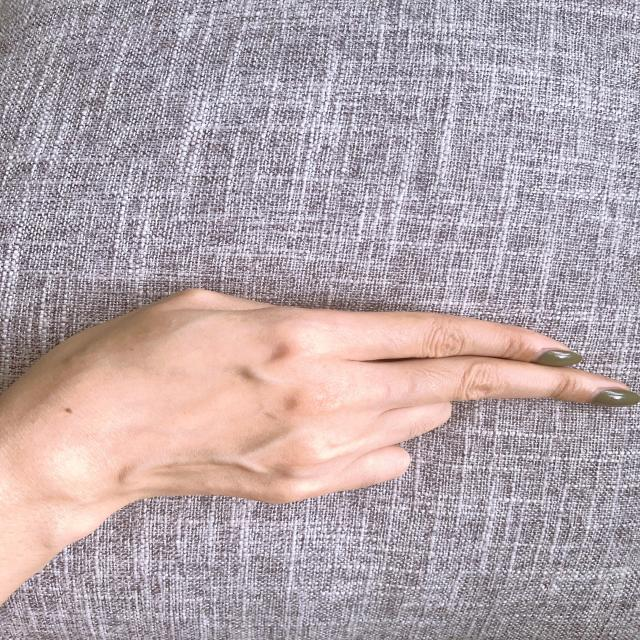H: (45, 286, 639, 508)
